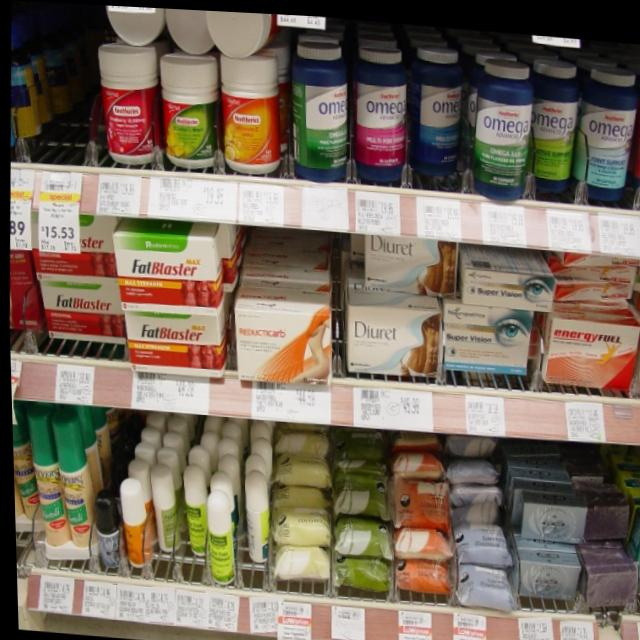q148: (108, 230, 222, 303), (120, 307, 228, 376), (32, 277, 125, 348)
